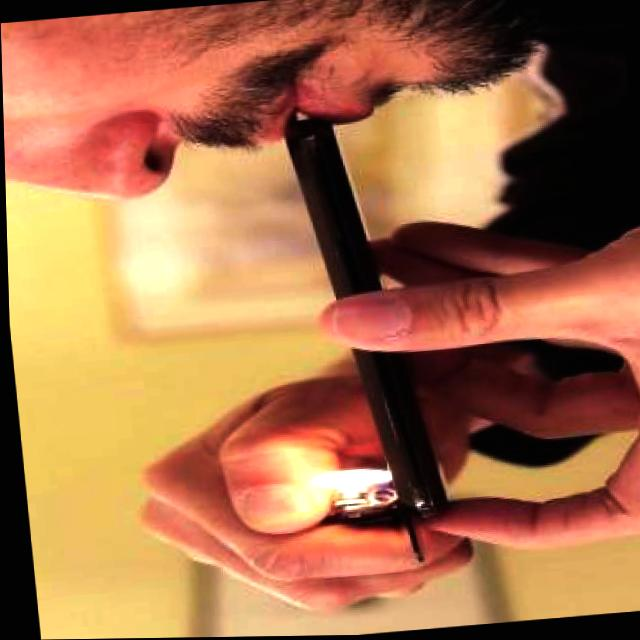helmet: (292, 455, 400, 504)
